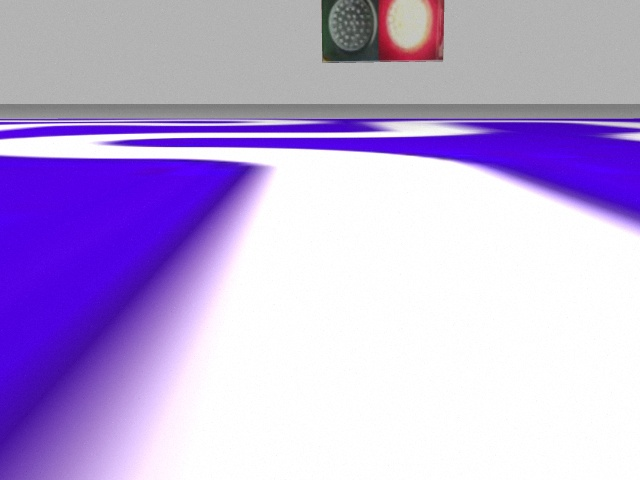red: (379, 1, 445, 63)
